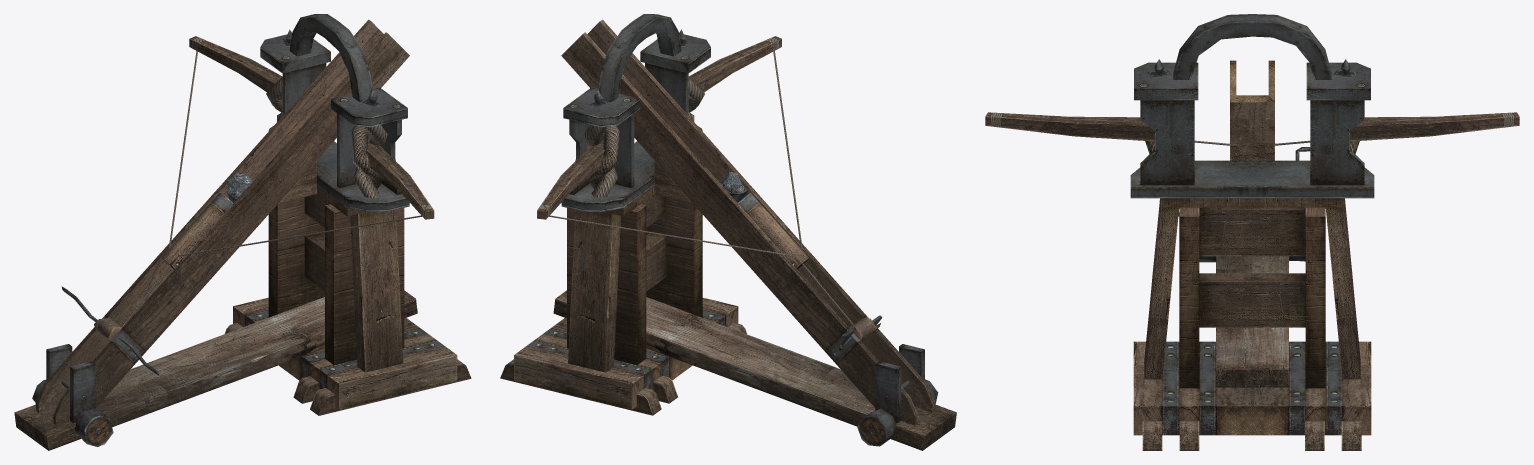
File: Onager.fbx
The picture shows the model from 3 angles, left to right: view 1: azimuth 30°, elevation 25°; view 2: azimuth 150°, elevation 25°; view 3: azimuth 270°, elevation 25°; orthographic projection. The views are drawn at different scales.
Parts seen in each view (by area): view 1: LV_Common_Object_B_Onager01_SM_NWCJOE; view 2: LV_Common_Object_B_Onager01_SM_NWCJOE; view 3: LV_Common_Object_B_Onager01_SM_NWCJOE.
Boxes of the visible parts, x1,y1,x2,y2 form: LV_Common_Object_B_Onager01_SM_NWCJOE: [14, 14, 471, 450]; LV_Common_Object_B_Onager01_SM_NWCJOE: [500, 14, 956, 450]; LV_Common_Object_B_Onager01_SM_NWCJOE: [985, 14, 1519, 450].
Bounding box in the file's own units: 75.41 × 63.09 × 79.44.
